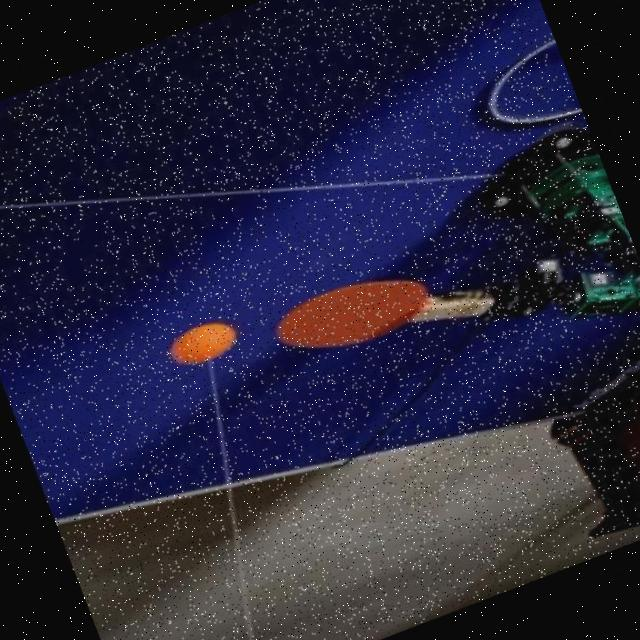ping-pong-ball: (166, 316, 238, 372)
